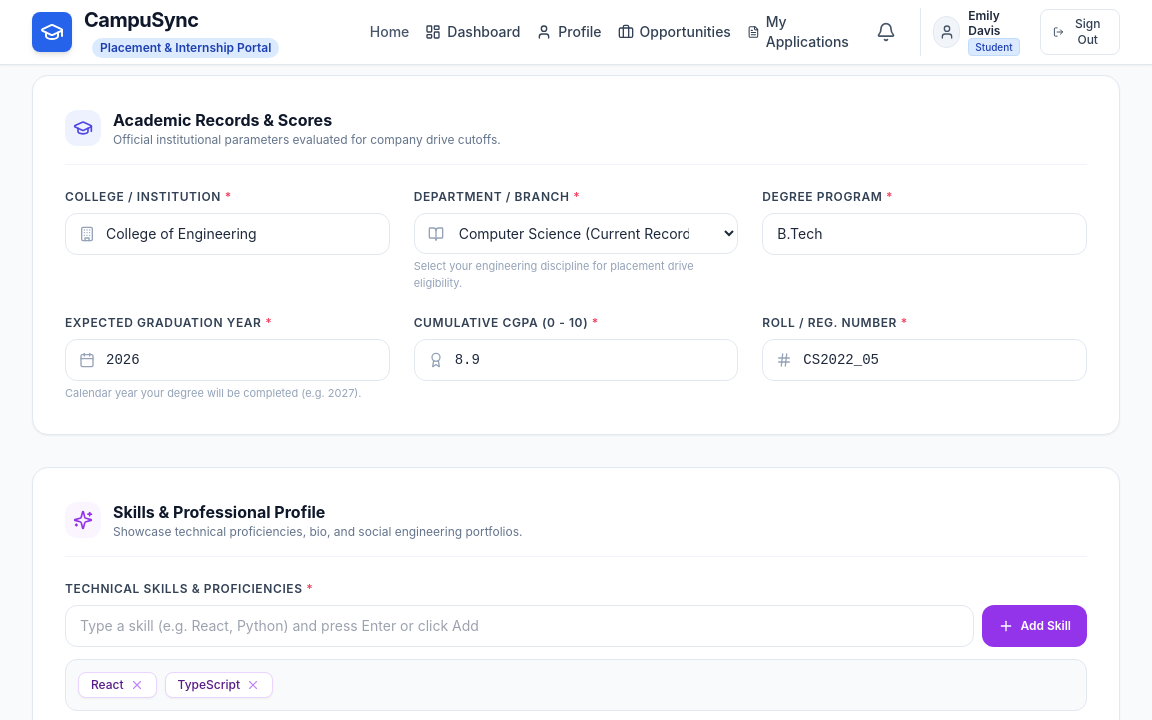
Test case: Student Profile Management Flow (/profile) › rejects invalid CGPA greater than 10.0 before sending request
(page scrolled)
Replace the text in the number field with test id "input-cgpa" with "11.5": (576, 360) [414,339,738,381]
(page scrolled)
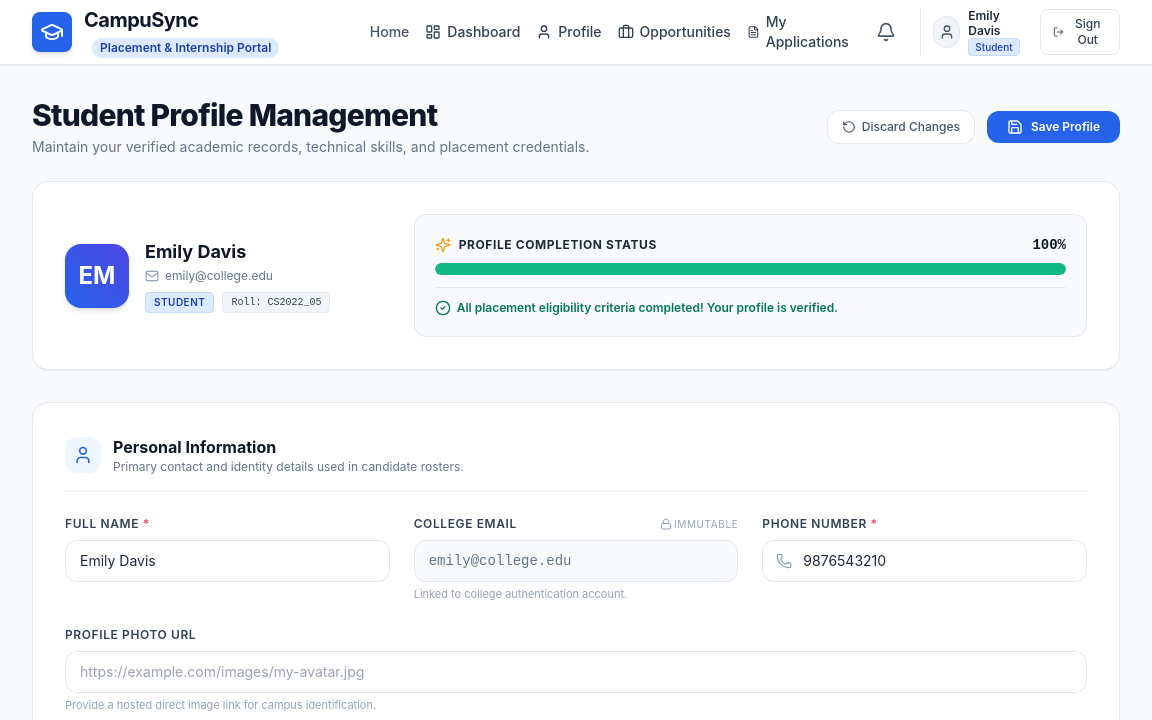
Click the button with test id "save-profile-btn": (1053, 127) [987,111,1120,143]
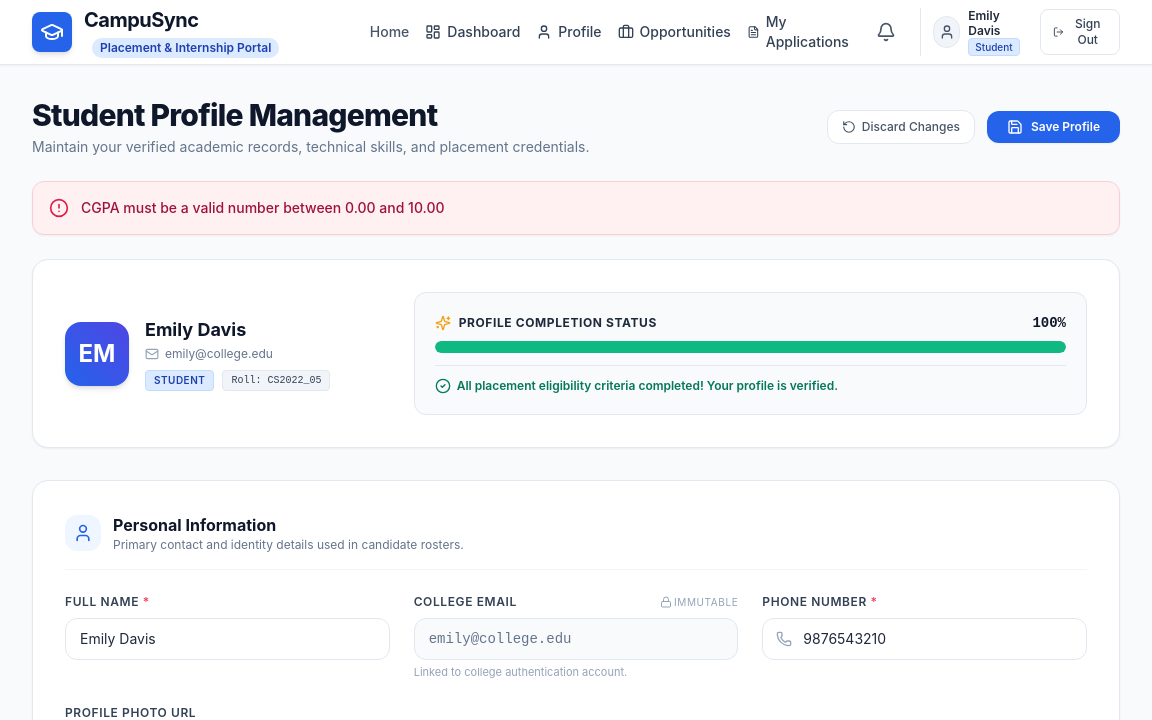
Expected: the element with test id "profile-error-alert" reads "CGPA must be a valid number between 0.00 and 10.00", [81,199,444,216]
